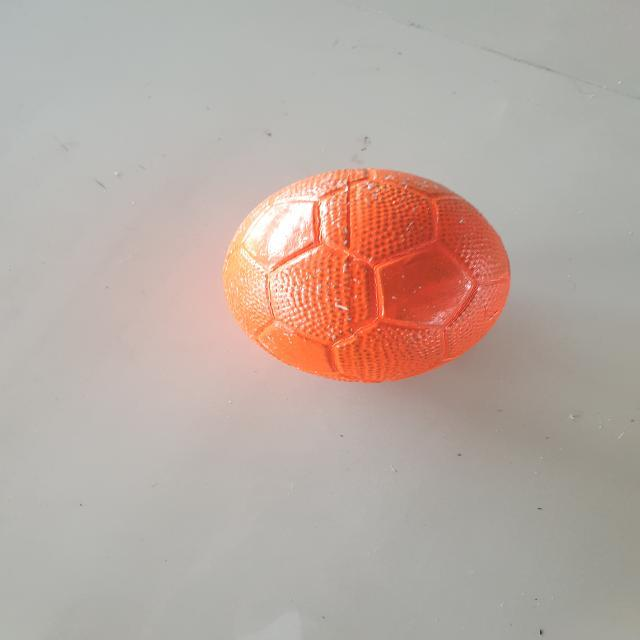bola: (210, 159, 530, 395)
